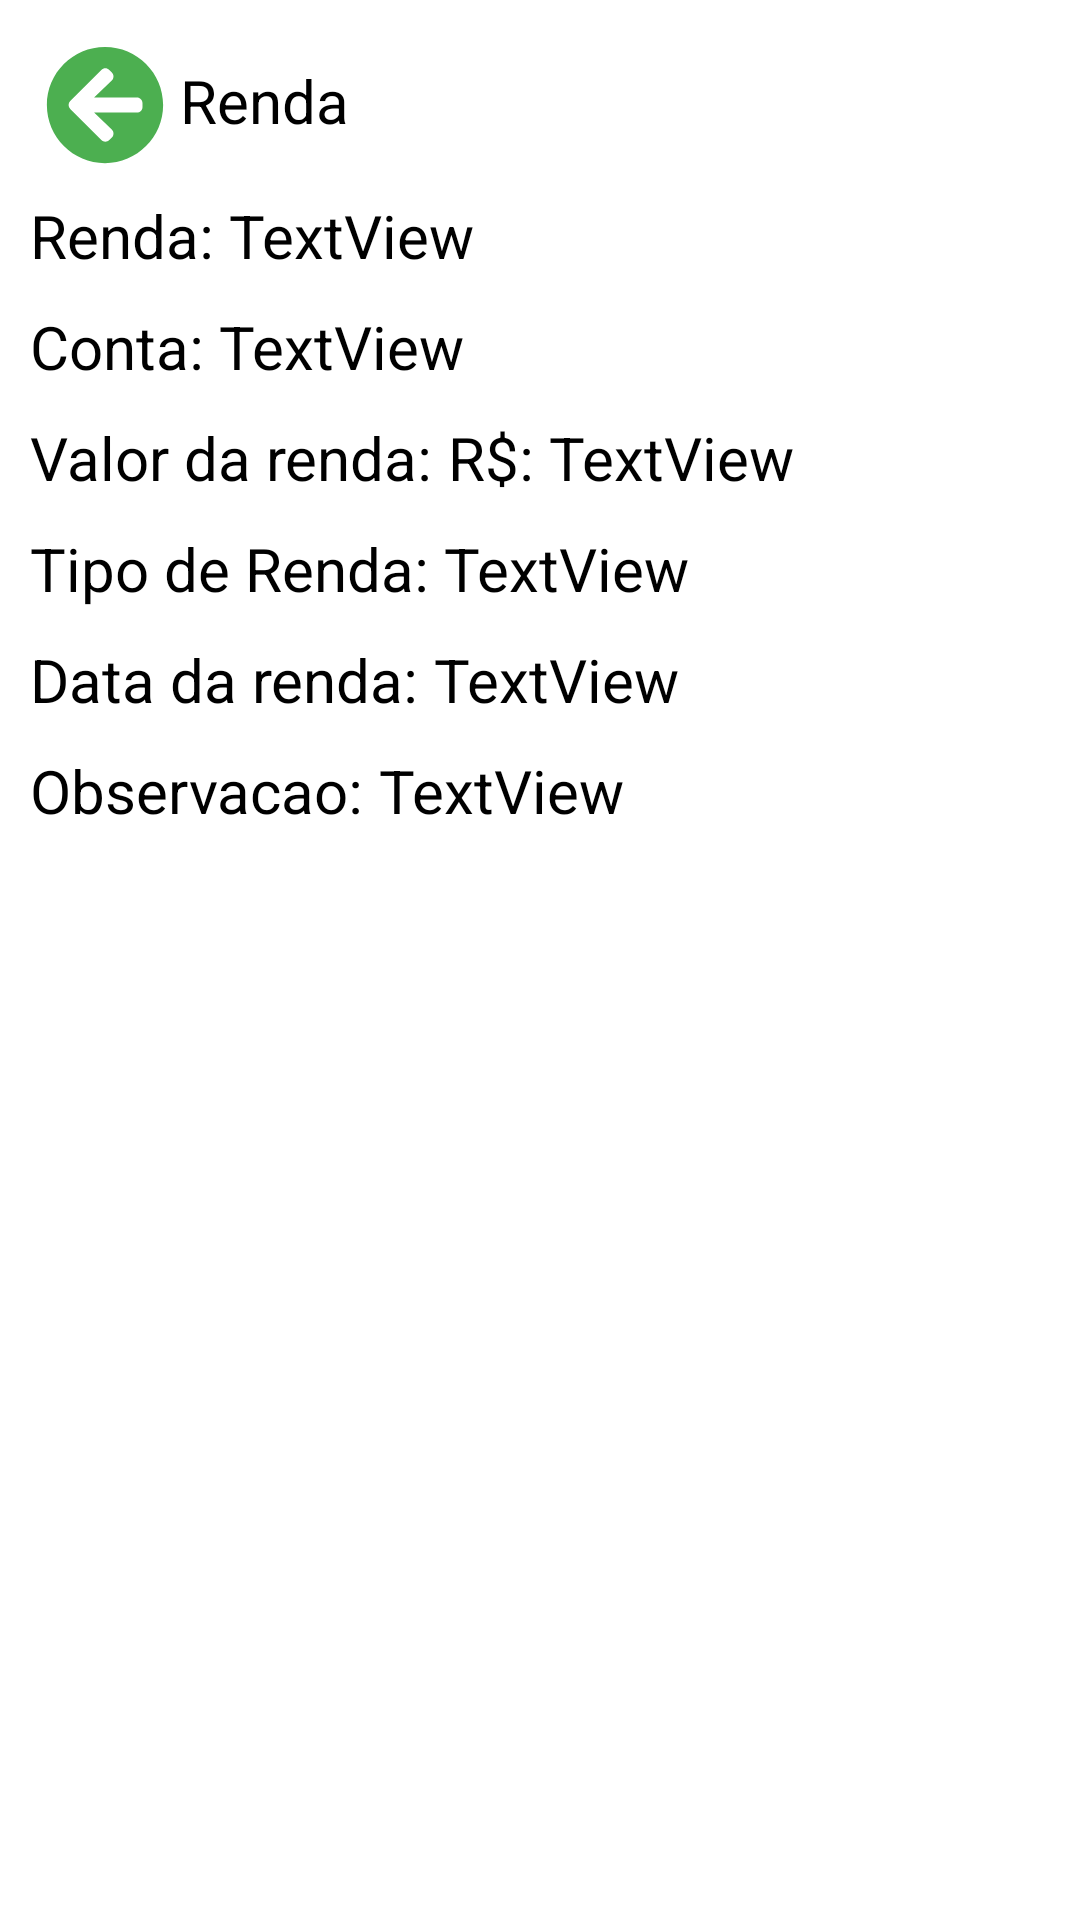

Locate icon controls on the screen. Image size 1080px x 1920px, boxes as {"x1": x1, "y1": y1, "x2": x2, "y2": y2}.
voltar: {"x1": 47, "y1": 47, "x2": 163, "y2": 164}
